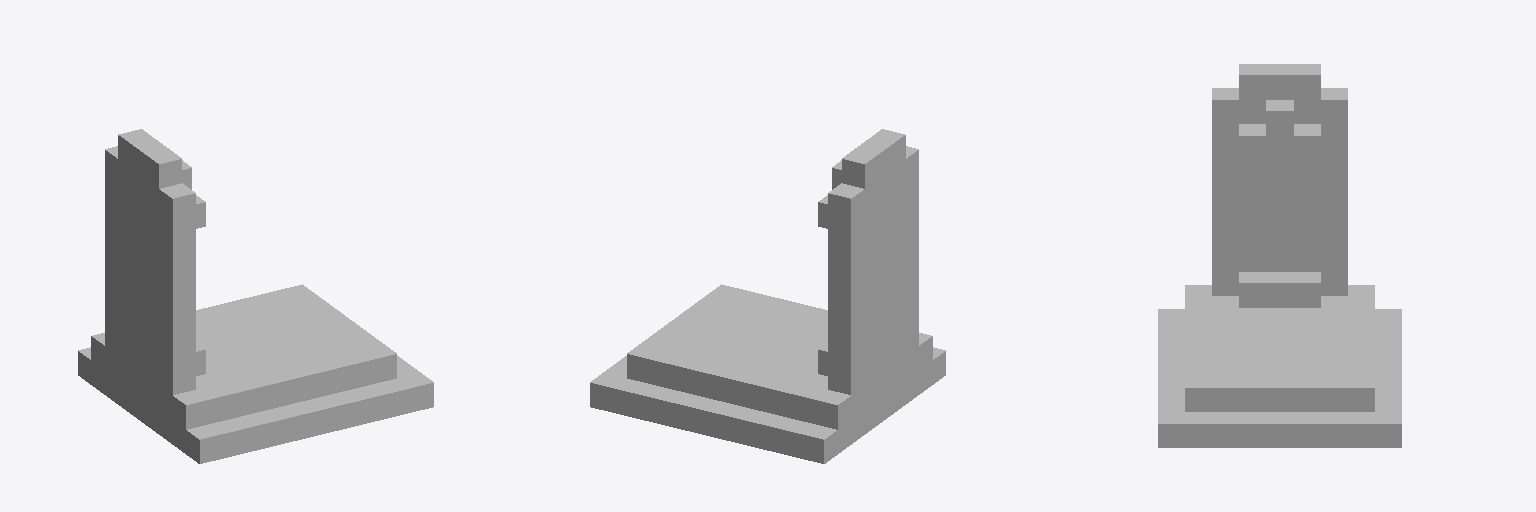
File: Tombstone.obj
3 renders of one model, left to right at view 1: azimuth 30°, elevation 25°; view 2: azimuth 150°, elevation 25°; view 3: azimuth 270°, elevation 25°, orthographic.
Parts seen in each view (by area): view 1: Tombstone; view 2: Tombstone; view 3: Tombstone.
Part boxes in pixels (bbox=[...]): Tombstone: bbox=[78, 129, 433, 463]; Tombstone: bbox=[590, 129, 945, 463]; Tombstone: bbox=[1158, 64, 1401, 447].
Bounding box in the file's own units: 10 × 11 × 9.